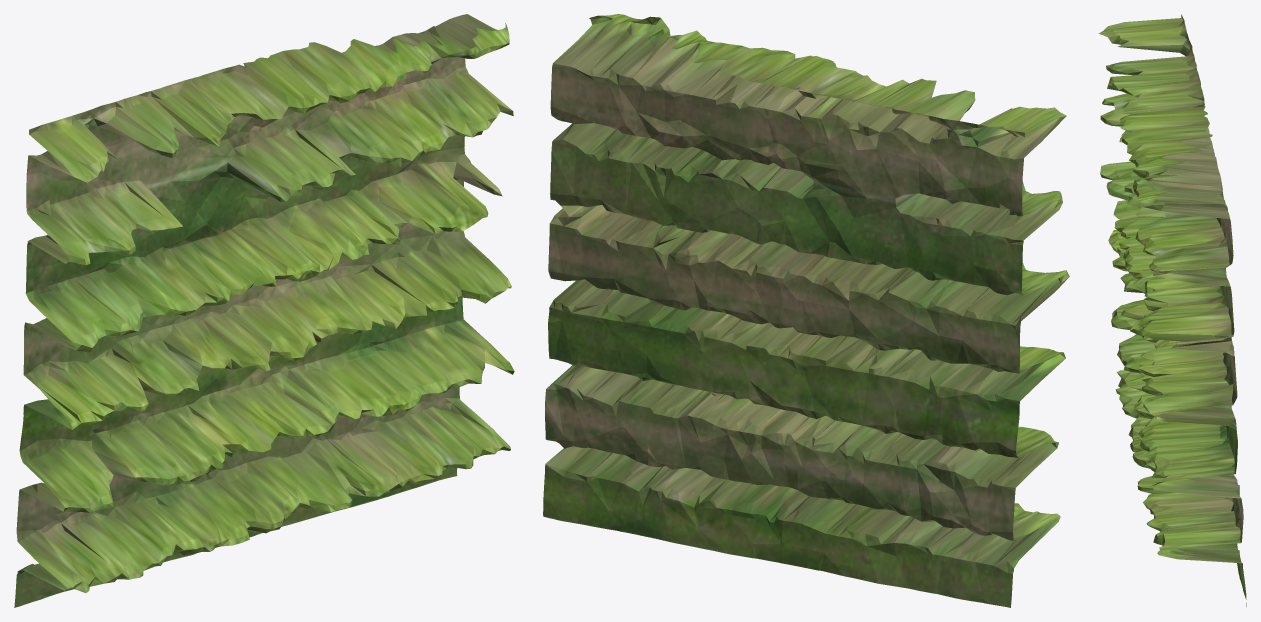
File: map_30_30.obj
3 views of the same model, side by side, from view 1: azimuth 30°, elevation 25°; view 2: azimuth 150°, elevation 25°; view 3: azimuth 270°, elevation 25° (orthographic). The views are drawn at different scales.
Visible parts, largest first — view 1: grp1; view 2: grp1; view 3: grp1.
Part boxes in pixels (x1=…): grp1: x1=14, y1=14, x2=514, y2=607; grp1: x1=543, y1=14, x2=1069, y2=607; grp1: x1=1098, y1=14, x2=1246, y2=606.
Bounding box in the file's own units: 10 × 10 × 3.32.
1 material, 1 textured.
